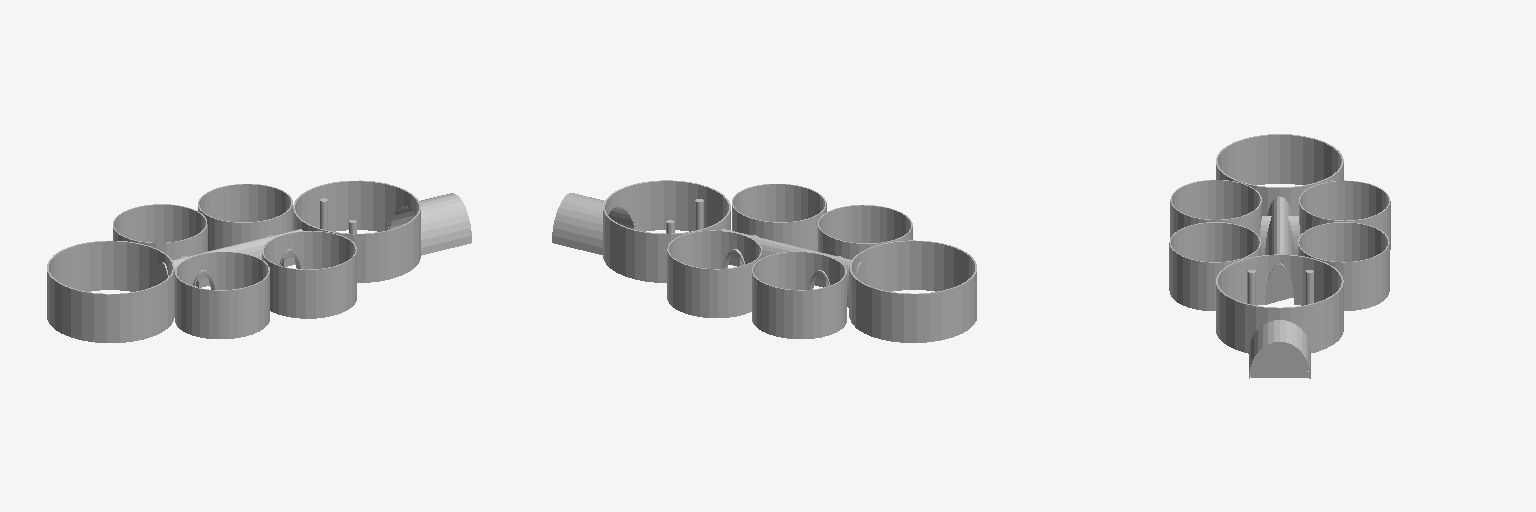
Rendered from HackSpaceExpoV2.obj.
3 renders of one model, left to right at view 1: azimuth 30°, elevation 25°; view 2: azimuth 150°, elevation 25°; view 3: azimuth 270°, elevation 25°, orthographic.
Parts seen in each view (by area): view 1: Gathering Space, MainLobby, DesignBasedRoom, PurposeBasedRoom, GrandPrizeRoom.001, TechnologyBasedRoom.001, EntranceSpace, MainHallway.001; view 2: Gathering Space, MainLobby, TechnologyBasedRoom.001, GrandPrizeRoom.001, PurposeBasedRoom, DesignBasedRoom, EntranceSpace, MainHallway.001; view 3: MainLobby, Gathering Space, PurposeBasedRoom, GrandPrizeRoom.001, DesignBasedRoom, TechnologyBasedRoom.001, MainHallway.001, EntranceSpace, EntranceWall.
Boxes of the visible parts, x1=… form: Gathering Space: x1=47, y1=241, x2=174, y2=342; MainLobby: x1=293, y1=180, x2=420, y2=282; DesignBasedRoom: x1=175, y1=252, x2=269, y2=338; PurposeBasedRoom: x1=262, y1=231, x2=356, y2=318; GrandPrizeRoom.001: x1=198, y1=184, x2=292, y2=250; TechnologyBasedRoom.001: x1=113, y1=204, x2=207, y2=259; EntranceSpace: x1=389, y1=193, x2=471, y2=255; MainHallway.001: x1=156, y1=229, x2=302, y2=287; Gathering Space: x1=849, y1=240, x2=976, y2=342; MainLobby: x1=603, y1=180, x2=730, y2=282; TechnologyBasedRoom.001: x1=752, y1=251, x2=846, y2=338; GrandPrizeRoom.001: x1=667, y1=230, x2=761, y2=317; PurposeBasedRoom: x1=732, y1=184, x2=826, y2=251; DesignBasedRoom: x1=818, y1=205, x2=912, y2=259; EntranceSpace: x1=552, y1=193, x2=635, y2=254; MainHallway.001: x1=721, y1=229, x2=867, y2=307; MainLobby: x1=1216, y1=254, x2=1343, y2=353; Gathering Space: x1=1216, y1=134, x2=1343, y2=215; PurposeBasedRoom: x1=1169, y1=222, x2=1260, y2=310; GrandPrizeRoom.001: x1=1298, y1=222, x2=1389, y2=310; DesignBasedRoom: x1=1170, y1=180, x2=1261, y2=237; TechnologyBasedRoom.001: x1=1299, y1=180, x2=1390, y2=249; MainHallway.001: x1=1265, y1=196, x2=1294, y2=304; EntranceSpace: x1=1249, y1=320, x2=1310, y2=378; EntranceWall: x1=1251, y1=343, x2=1308, y2=377.
Bounding box in the file's own units: 45.34 × 5.39 × 21.62.